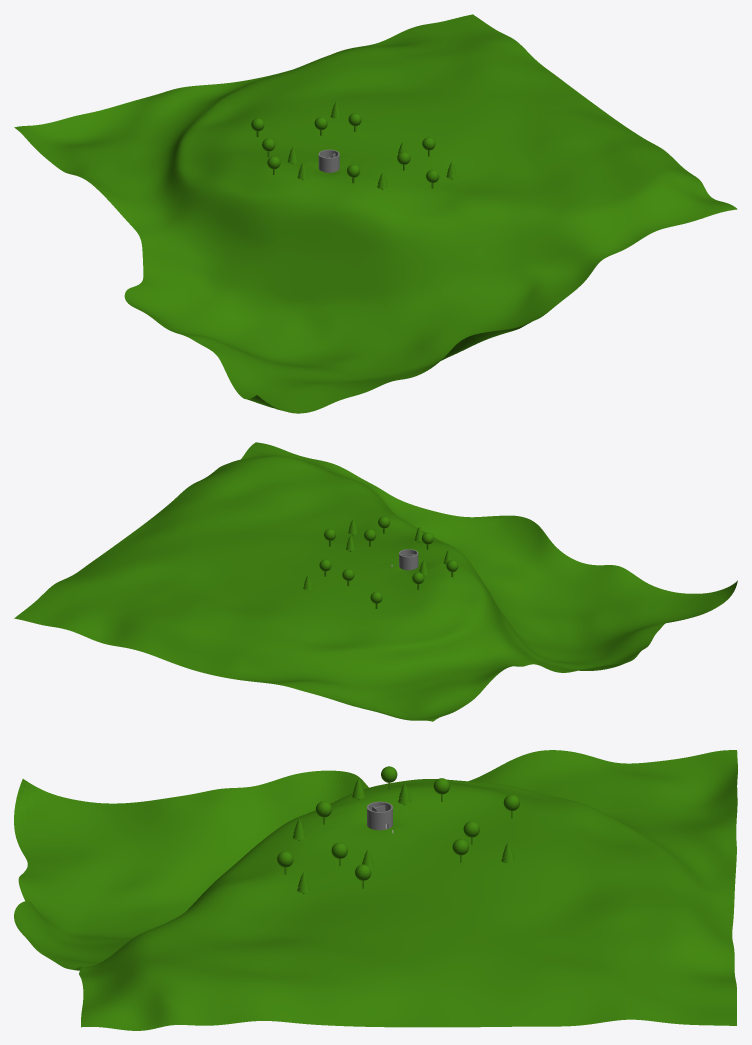
File: Blockout Poprawiony cz3 do exportu.fbx
3 renders of one model, top to bottom at view 1: azimuth 30°, elevation 25°; view 2: azimuth 150°, elevation 25°; view 3: azimuth 270°, elevation 25°, orthographic. The views are drawn at different scales.
Visible parts, largest first — view 1: Plane; view 2: Plane; view 3: Plane, Cylinder.
Part boxes in pixels (x1,y1,x2,y2): Plane: [14, 14, 737, 413]; Plane: [14, 442, 737, 721]; Plane: [14, 750, 737, 1030]; Cylinder: [367, 801, 392, 829].
Bounding box in the file's own units: 44521 × 11206 × 44134.
